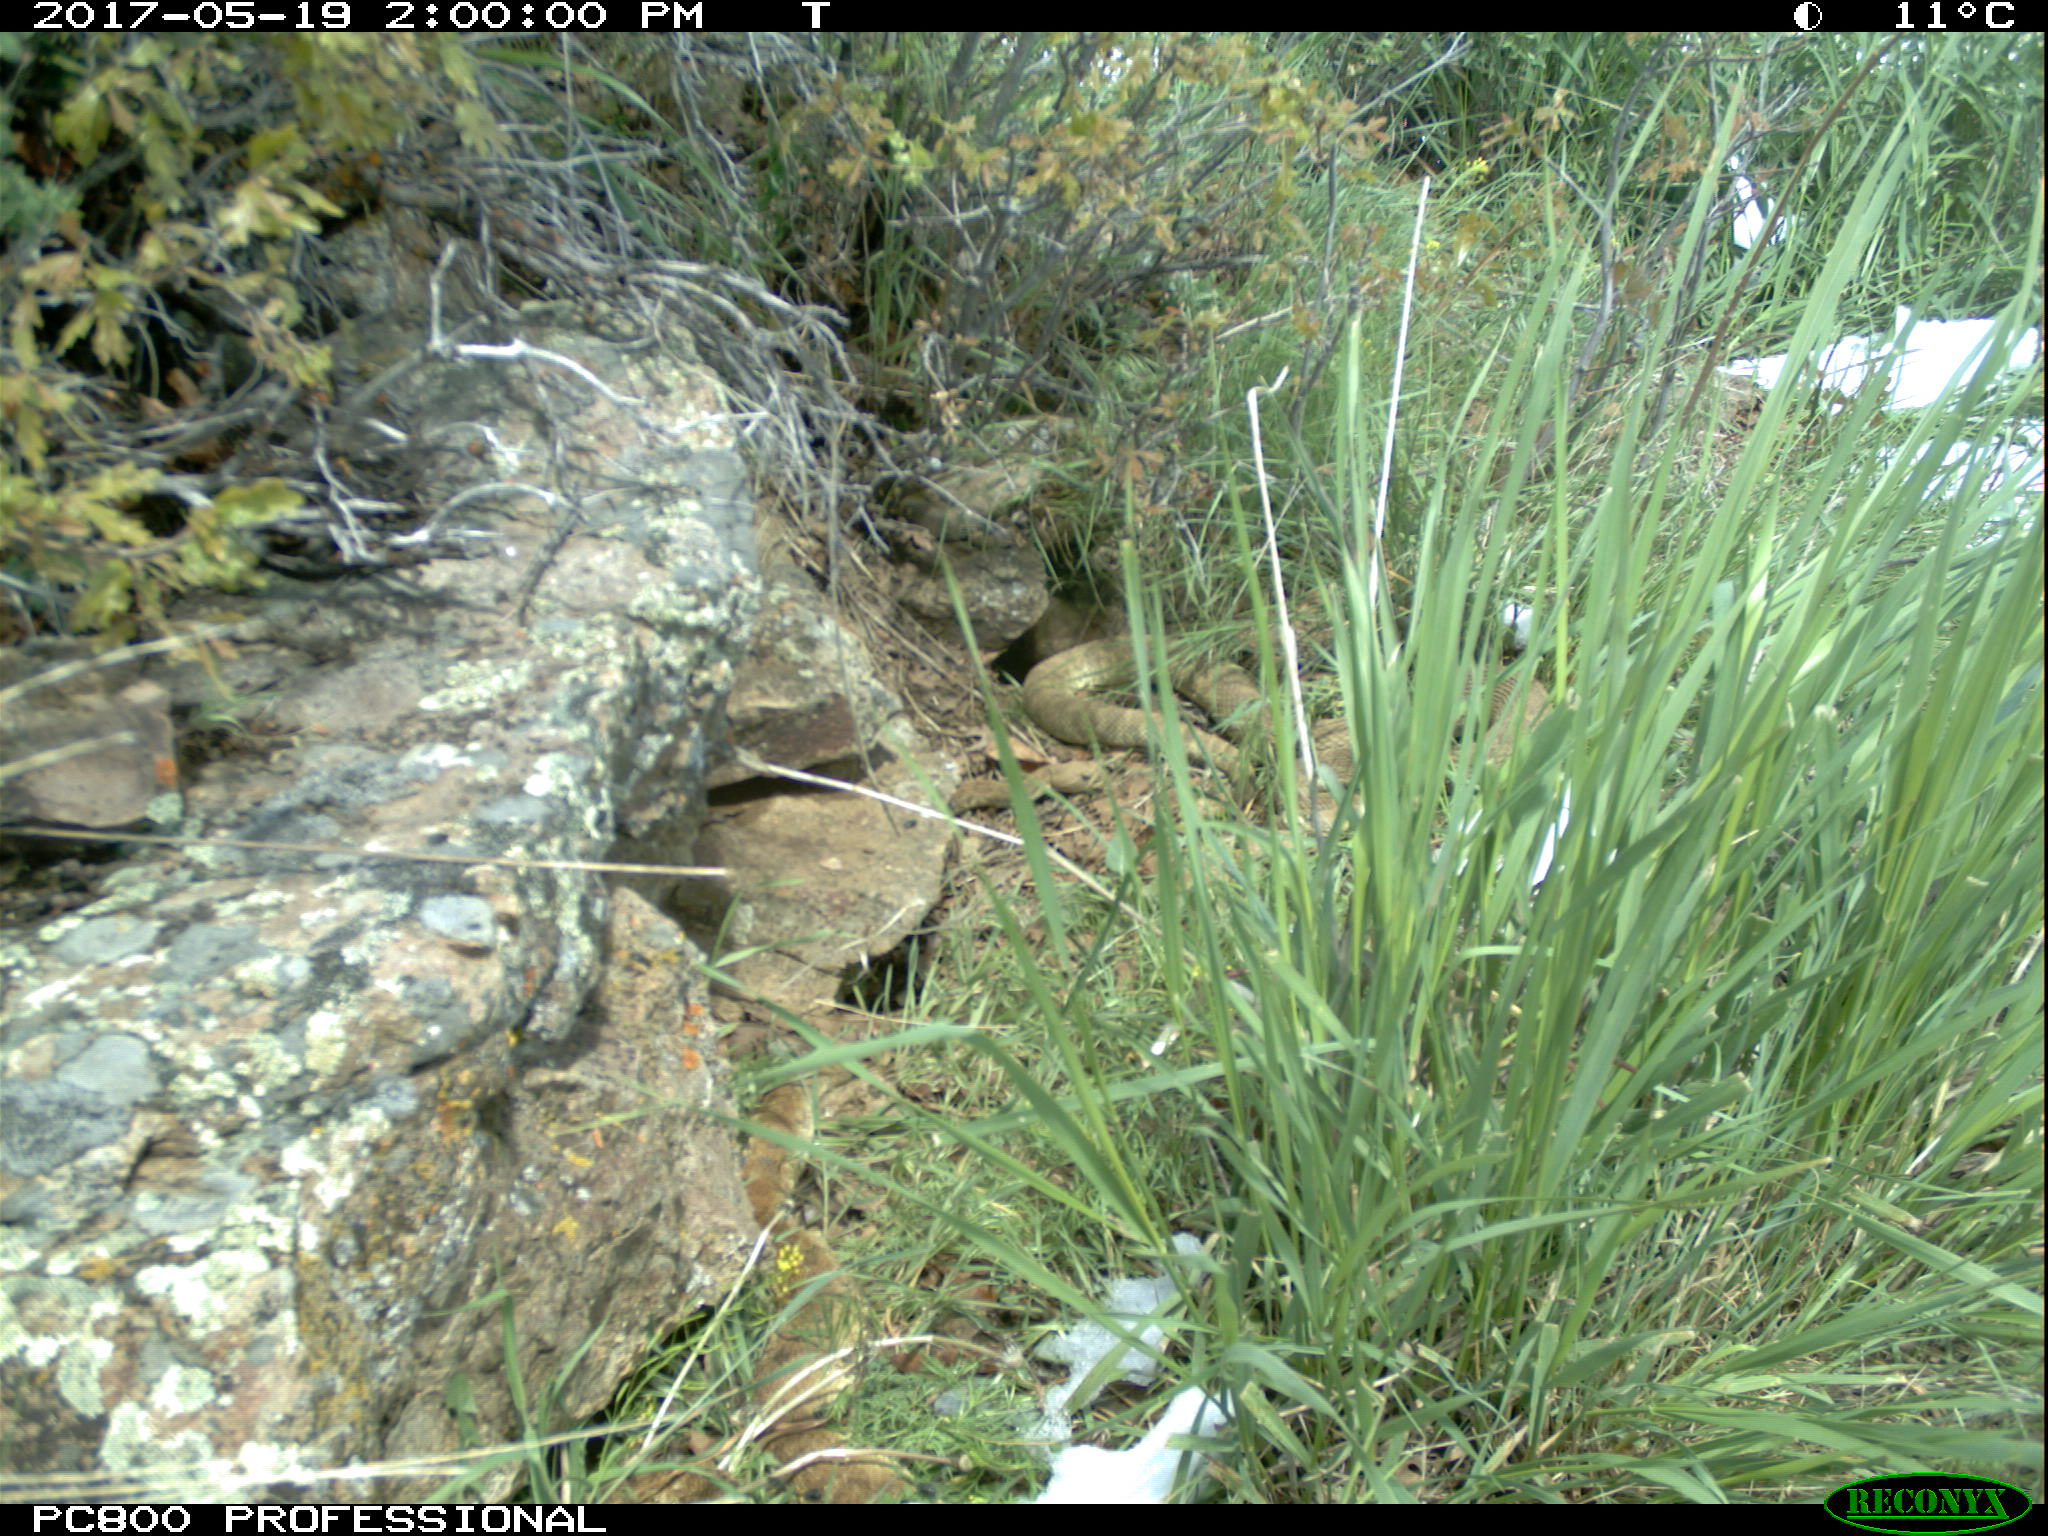snake: (735, 1034, 913, 1497), (1021, 636, 1319, 773), (1309, 649, 1564, 800), (940, 745, 1105, 807)
